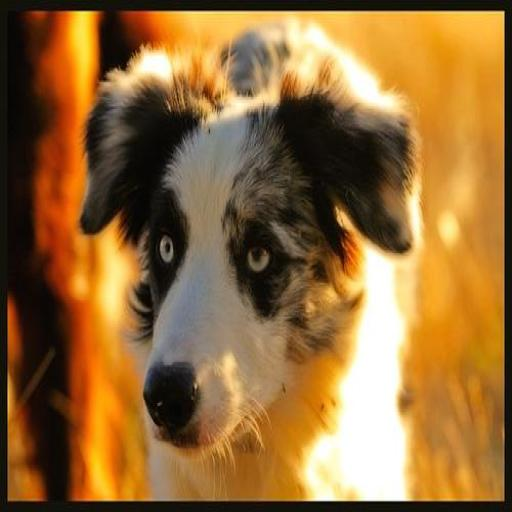dog_face: (89, 61, 412, 443)
